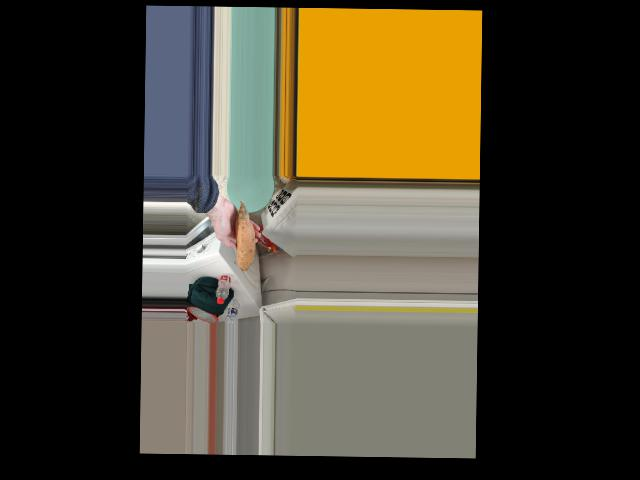sweet_potato: (230, 215, 255, 276)
